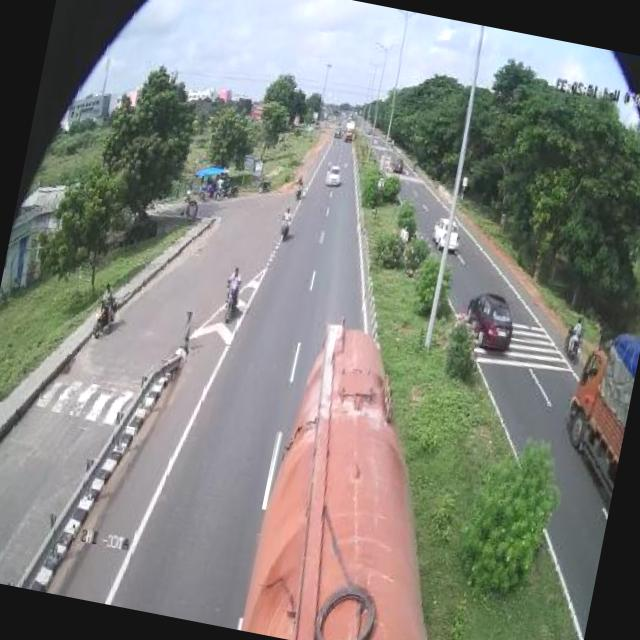car: (456, 283, 524, 359), (217, 260, 250, 330), (425, 211, 470, 260), (322, 157, 348, 194)
